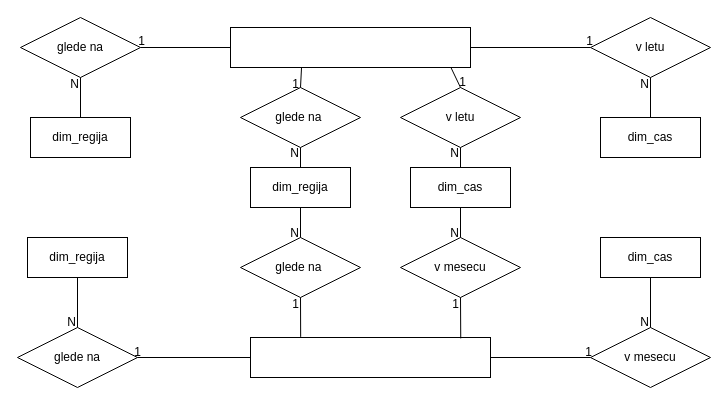
This 728x405 diagram has some shape labels left out. Each missing label, with the centre of its shape:
fact_bdp_podjetja_brezposelnost: pixel 350 47
fact_gradbenistvo_velikostinepremicnin: pixel 370 357
